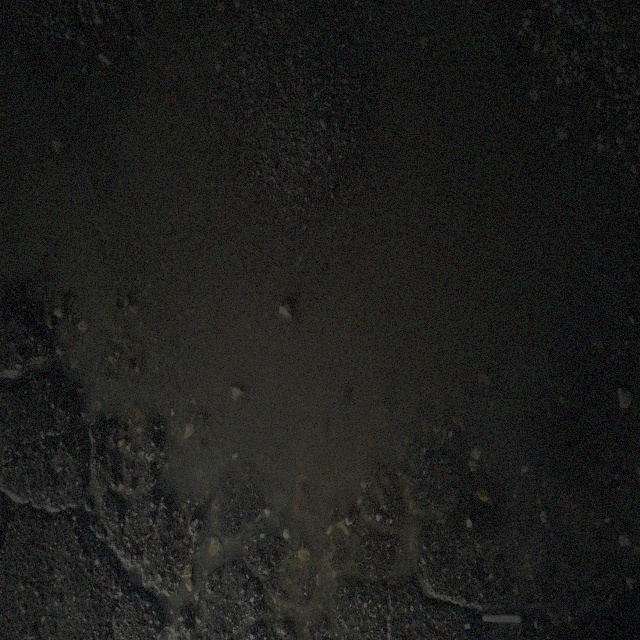pothole: (28, 239, 498, 618)
